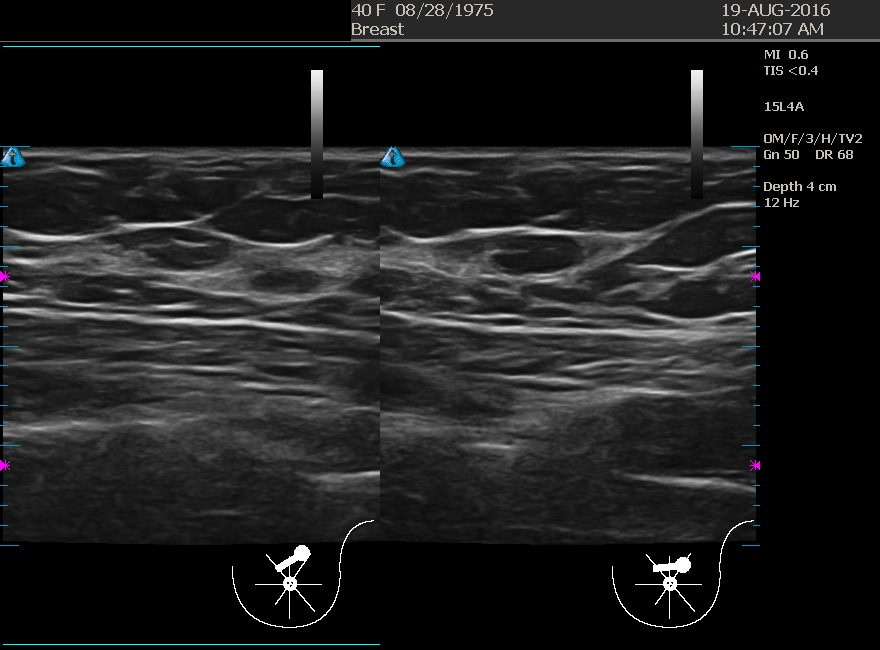BIRADS_3: (68, 153, 268, 353), (407, 152, 607, 352)
